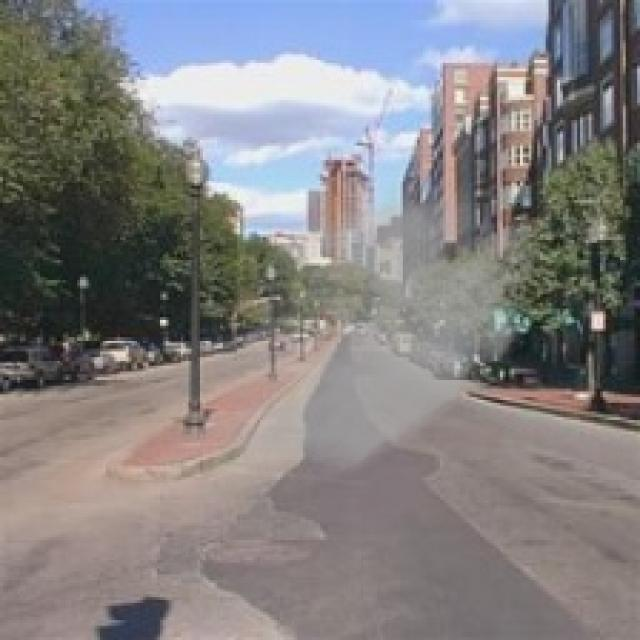smoke: (143, 163, 551, 511)
